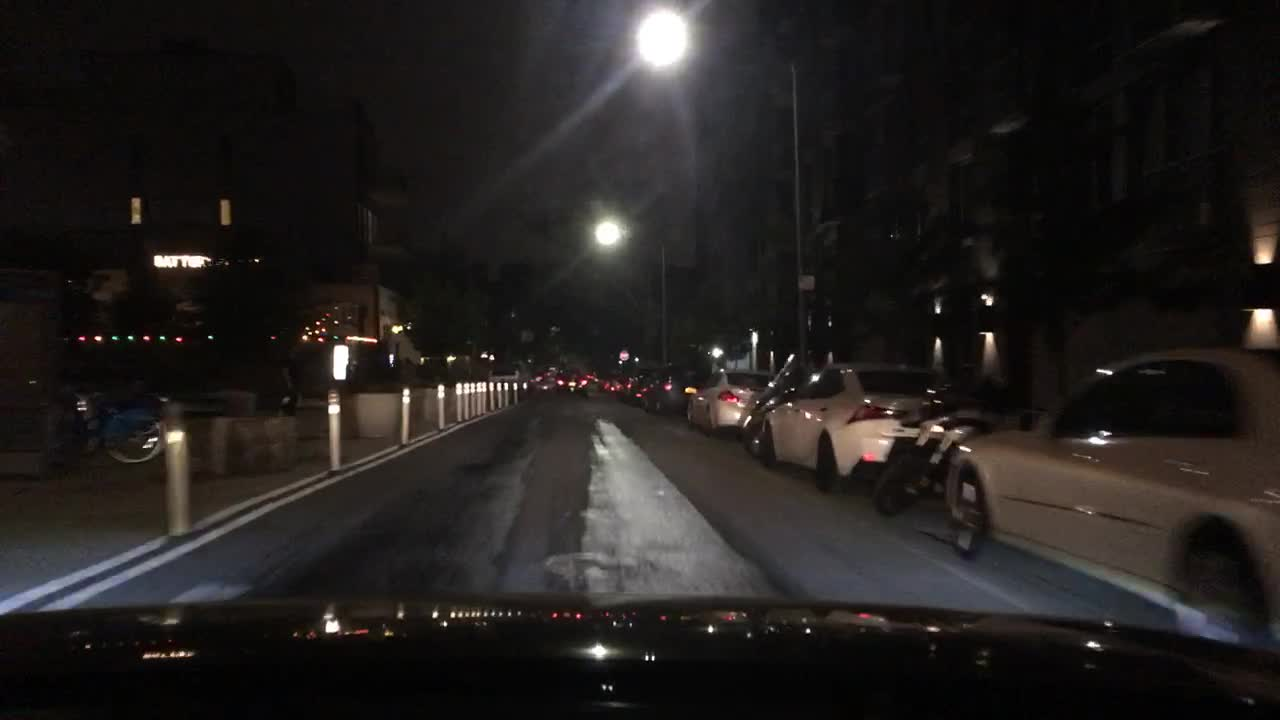car: (942, 343, 1278, 639), (758, 361, 955, 496), (684, 367, 777, 437), (636, 362, 705, 415), (619, 375, 652, 403), (528, 368, 559, 395), (596, 374, 623, 398), (579, 372, 600, 392)
motor: (868, 383, 1027, 517), (42, 381, 166, 466)
person: (954, 362, 976, 406)
traffic sign: (329, 342, 349, 382), (795, 272, 816, 292)
